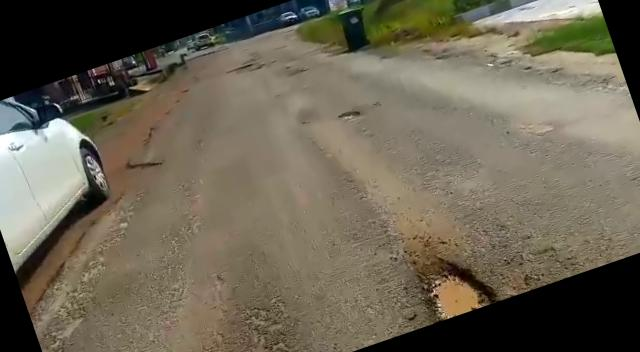pothole: (406, 241, 506, 324), (334, 104, 366, 125)
